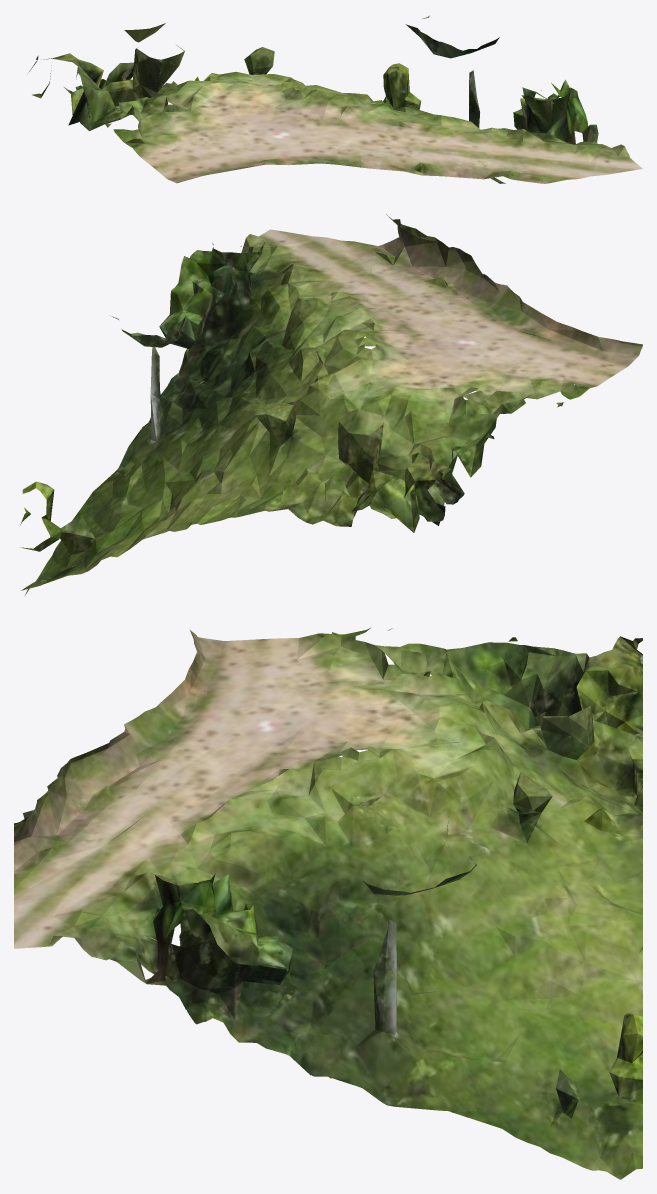
3 renders of one model, top to bottom at view 1: azimuth 30°, elevation 25°; view 2: azimuth 150°, elevation 25°; view 3: azimuth 270°, elevation 25°, orthographic. The views are drawn at different scales.
Bounding box in the file's own units: 26.11 × 13.13 × 26.11.
Materials: 3 (3 with a texture image).
